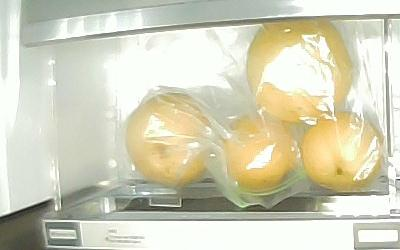pear_vinyl: (246, 22, 352, 123), (124, 93, 211, 187), (300, 111, 382, 191), (222, 115, 295, 191)
